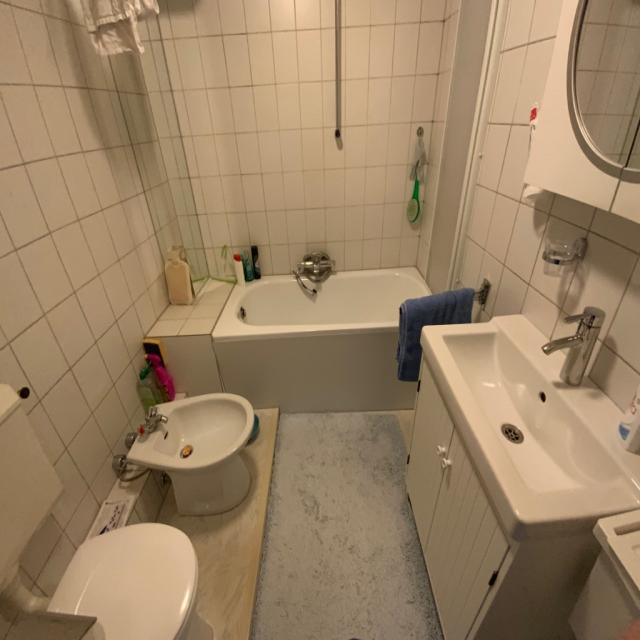bath: (211, 250, 434, 376)
toilet: (0, 382, 198, 640), (126, 392, 255, 516)
wastafel: (406, 350, 602, 640), (423, 306, 640, 522)
